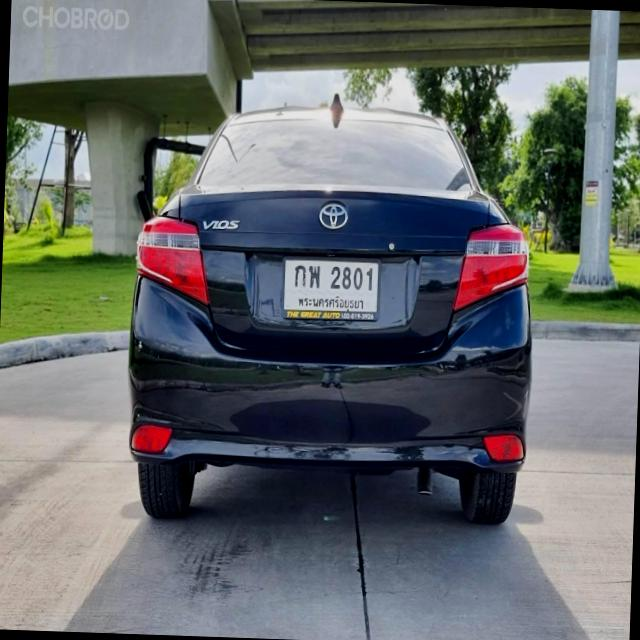license_plate: (280, 253, 380, 324)
